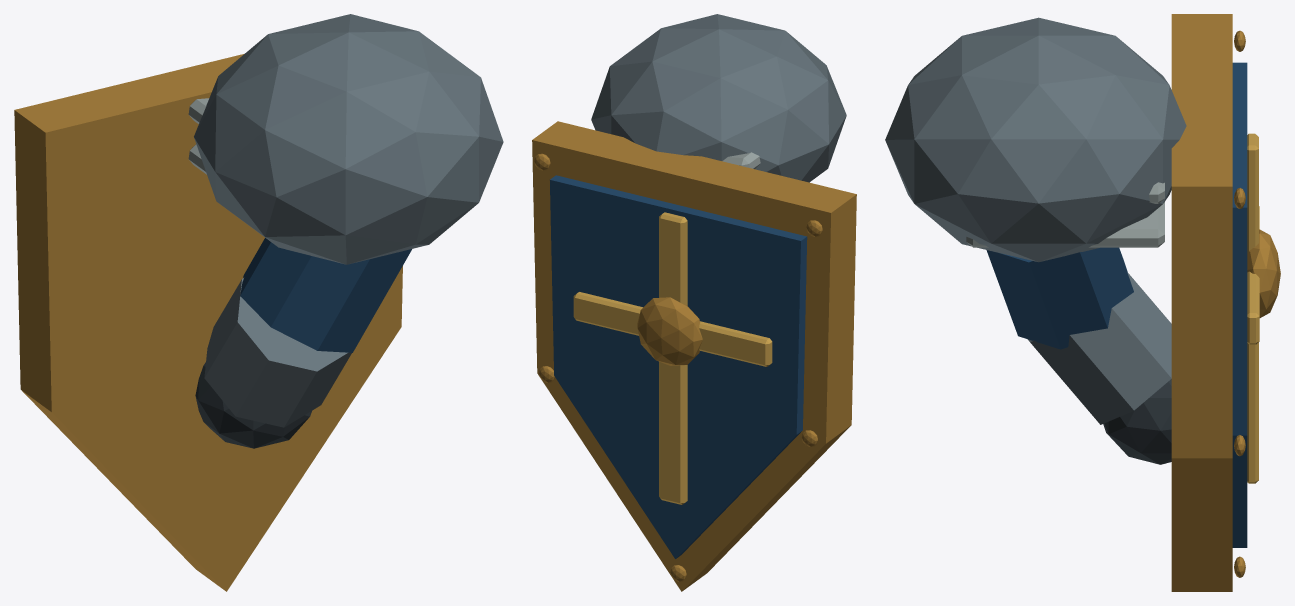
The model's file is ArmLeft.glb.
The picture shows the model from 3 angles, left to right: view 1: azimuth 30°, elevation 25°; view 2: azimuth 150°, elevation 25°; view 3: azimuth 270°, elevation 25°; orthographic projection. The views are drawn at different scales.
Visible parts, largest first — view 1: Sculpture; view 2: Sculpture; view 3: Sculpture.
Part boxes in pixels (<box>): Sculpture: <box>14,14,503,591</box>; Sculpture: <box>532,14,856,591</box>; Sculpture: <box>885,14,1280,591</box>.
Size of the model in its own units: 0.649 by 1 by 0.618.
